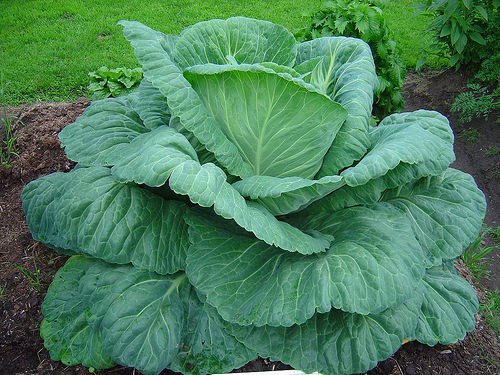cabbage: (24, 17, 487, 374)
